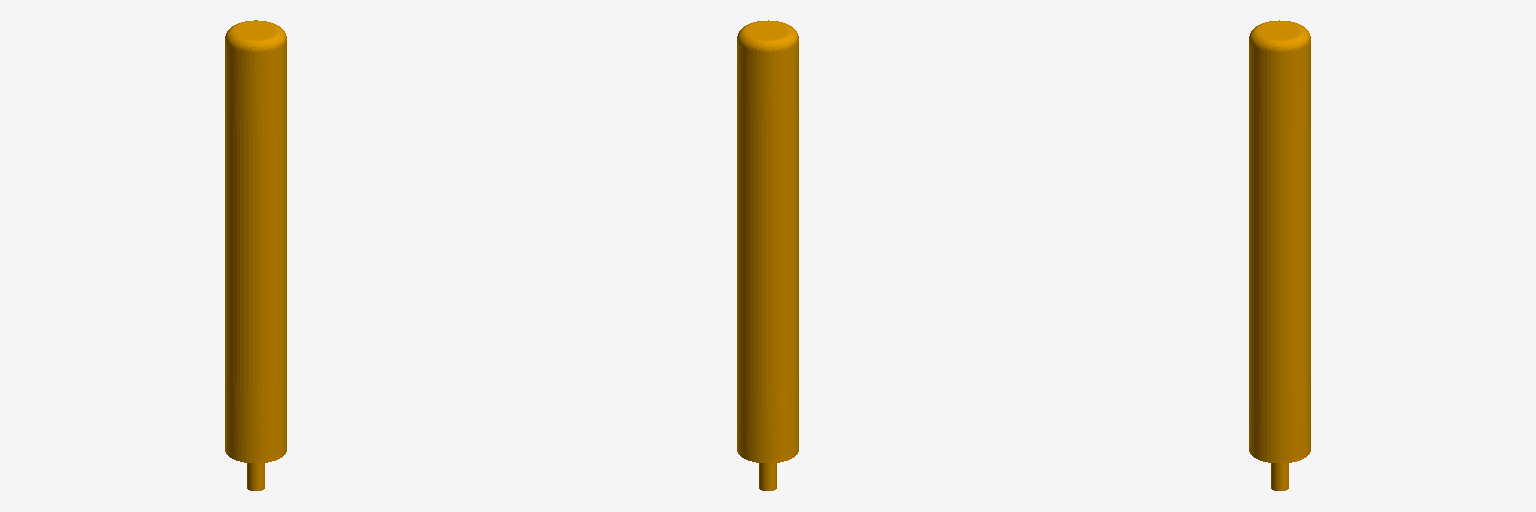
The robot description file, URDF, robot "flisat_leg":
<?xml version="0.0" ?>
<robot name="flisat_leg">

  <link name="flisat_leg_link">
    <inertial>
      <origin rpy="0 0 0" xyz="0 0 0"/>
       <mass value=".0"/>
       <inertia ixx="1" ixy="0" ixz="0" iyy="1" iyz="0" izz="1"/>
    </inertial>
    <visual>
      <origin rpy="0 0 0" xyz="0 0 0"/>
      <geometry>
        <mesh filename="package://stool_description/meshes/flisat_leg.stl" scale="1 1 1" />
      </geometry>
    </visual>
    <collision>
      <origin rpy="0 0 0" xyz="0 0 0"/>
      <geometry>
        <mesh filename="package://stool_description/meshes/flisat_leg.stl" scale="1 1 1" />
      </geometry>
    </collision>
  </link>

</robot>

--- Render facts (derived) ---
Views: 3 orthographic renders of the robot side by side, from view 1: azimuth 30°, elevation 25°; view 2: azimuth 150°, elevation 25°; view 3: azimuth 270°, elevation 25°.
Model flisat_leg with 1 links and 0 joints (none), rooted at flisat_leg_link, posed every joint at zero.
Links seen in each view (by area): view 1: flisat_leg_link; view 2: flisat_leg_link; view 3: flisat_leg_link.
Boxes of the visible links, x1=… form: flisat_leg_link: x1=225, y1=20, x2=286, y2=490; flisat_leg_link: x1=737, y1=20, x2=798, y2=490; flisat_leg_link: x1=1249, y1=20, x2=1310, y2=490.
Size in the robot's own frame: 34.2 by 34.2 by 280 metres.
Meshes: 1 distinct files referenced, 1 mesh visuals loaded (1 binary STL).